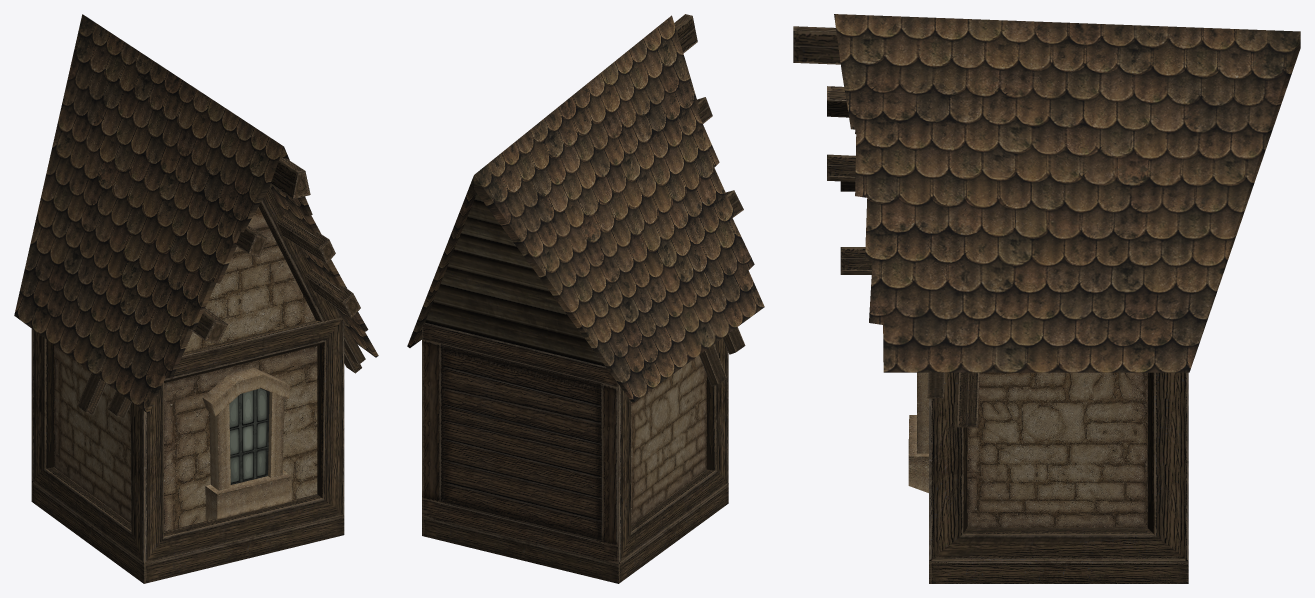
File: Window_b06.fbx
The picture shows the model from 3 angles, left to right: view 1: azimuth 30°, elevation 25°; view 2: azimuth 150°, elevation 25°; view 3: azimuth 270°, elevation 25°; orthographic projection. The views are drawn at different scales.
Parts seen in each view (by area): view 1: Window_b06; view 2: Window_b06; view 3: Window_b06.
Boxes of the visible parts, x1,y1,x2,y2 form: Window_b06: (14, 14, 378, 583); Window_b06: (407, 14, 764, 583); Window_b06: (793, 14, 1300, 583).
Size of the model in its own units: 3.82 by 6.25 by 5.61.
